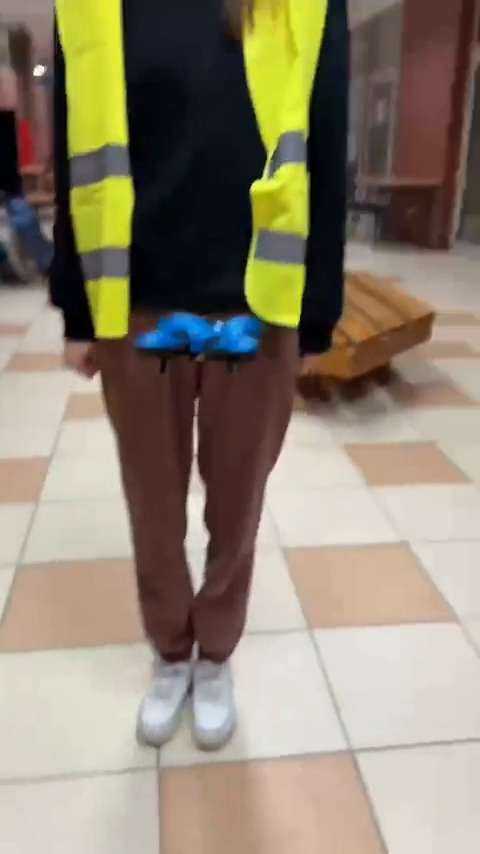drone: (137, 310, 268, 375)
vest: (54, 64, 352, 764)
